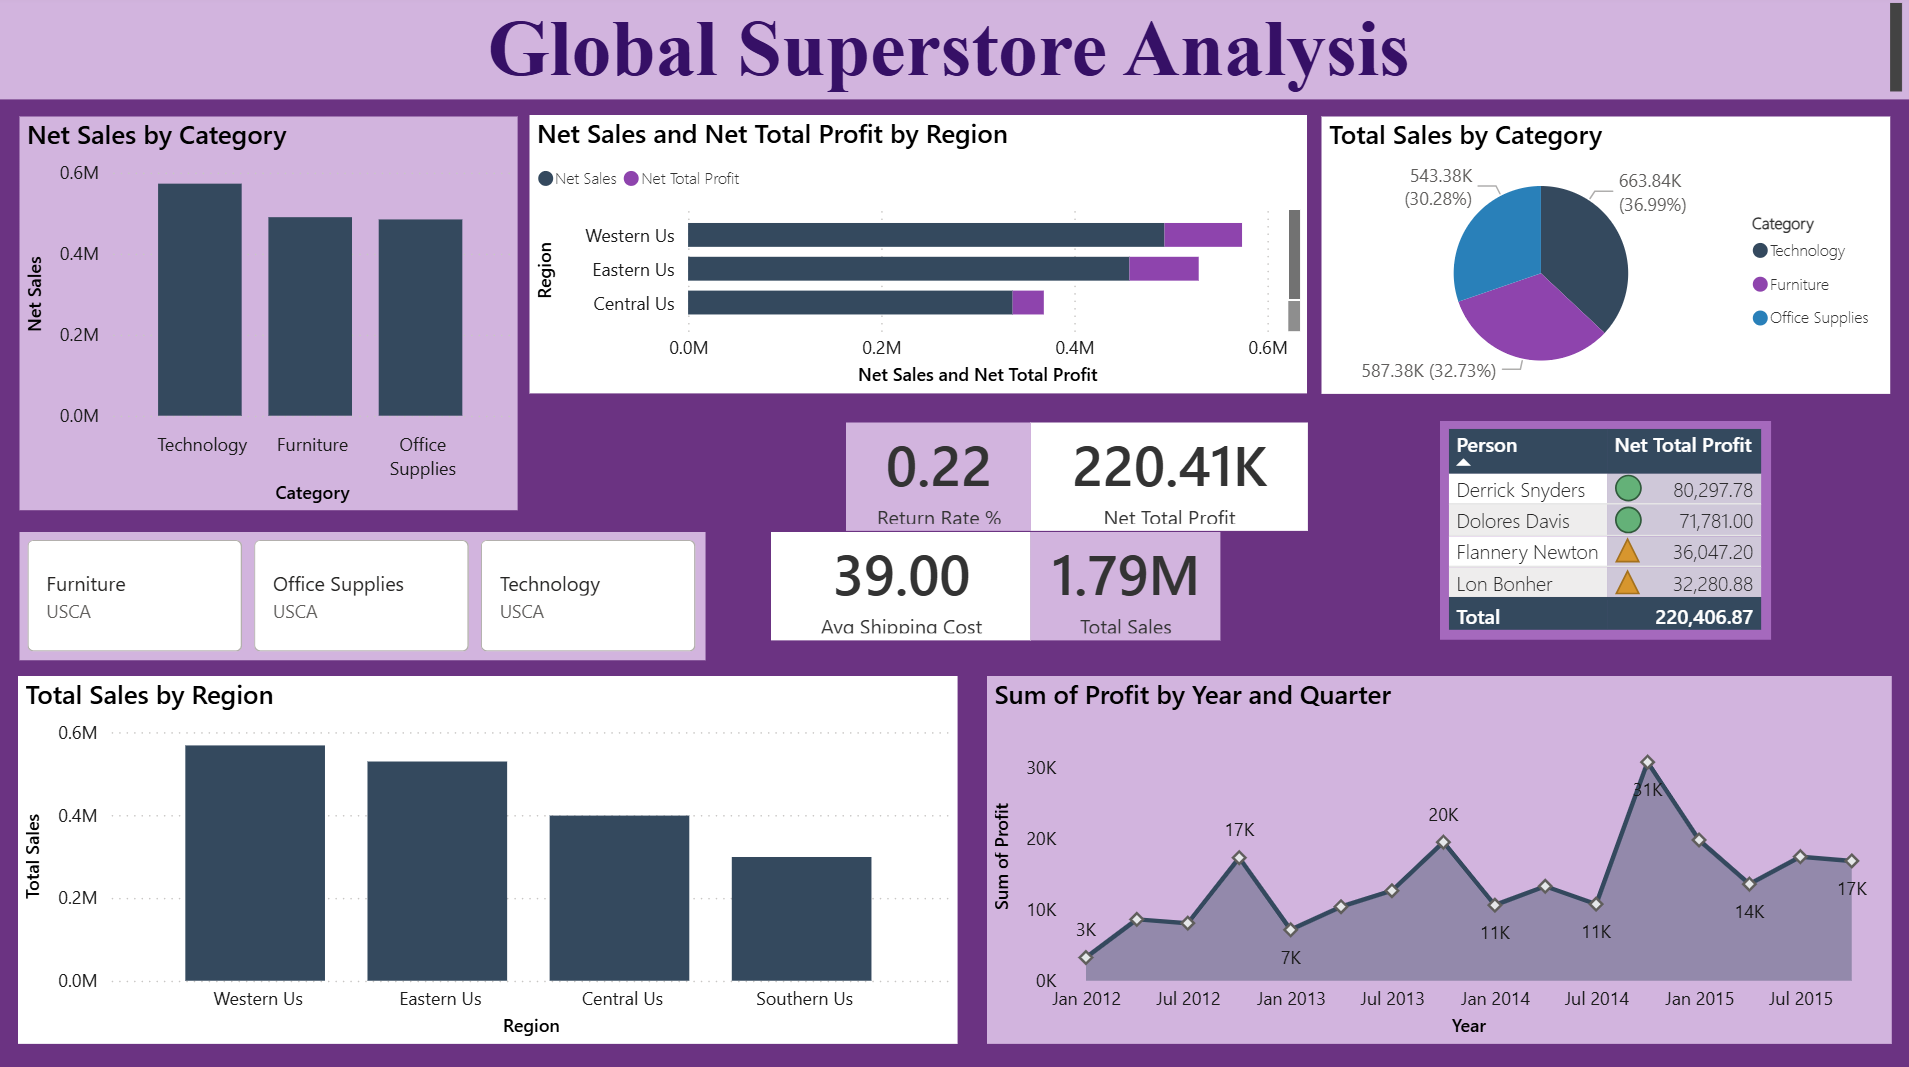

Layout of this report page (visuals, bound fields, positions):
{"tool":"powerbi","page":{"name":"Page 1","canvas":[1280,720],"ordinal":0},"visuals":[{"type":"tableEx","fields":{"Values":["People.Person","Orders.Net Total Profit"]},"box":[966,285.4,222.3,146.8],"z":0},{"type":"columnChart","fields":{"Category":["Orders.Category"],"Y":["Orders.Net Sales"]},"box":[12.9,81.4,334.3,264.3],"z":1000},{"type":"lineChart","fields":{"Y":["Sum(Orders.Profit)"],"Category":["Orders.Order Date.Variation.Date Hierarchy.Year","Orders.Order Date.Variation.Date Hierarchy.Quarter"]},"box":[661.4,456.9,606.5,247],"z":2000},{"type":"advancedSlicerVisual","fields":{"Values":["Orders.Category"],"Label":["Min(Orders.Market)"]},"box":[12.9,360,460,85.7],"z":3000},{"type":"textbox","box":[0,0,1280,70],"z":4000},{"type":"card","fields":{"Values":["Orders.Total Sales"]},"box":[691.4,360,127.1,72.9],"z":5000},{"type":"card","fields":{"Values":["Orders.Net Total Profit"]},"box":[691.4,287.1,185.7,72.9],"z":6000},{"type":"barChart","fields":{"Category":["People.Region"],"Y":["Orders.Net Sales","Orders.Net Total Profit"]},"box":[355.4,81,521.4,186.6],"z":7000},{"type":"pieChart","fields":{"Category":["Orders.Category"],"Y":["Orders.Total Sales"]},"box":[886.5,81.3,381.6,186.2],"z":8000},{"type":"columnChart","fields":{"Category":["Orders.Region"],"Y":["Orders.Total Sales"]},"box":[12.3,456.9,629.8,247],"z":9000},{"type":"card","fields":{"Values":["Orders.Avg Shipping Cost"]},"box":[517.1,360,174.3,72.9],"z":10000},{"type":"card","fields":{"Values":["Orders.Return Rate %"]},"box":[567.1,287.1,124.3,72.9],"z":11000}]}

Visuals, with their boxes in screenshot pixels (x1, y1, x2, y2), scaled from the page's 1280x720 canvas onto the 1909x1067 screenshot:
tableEx - People.Person x Orders.Net Total Profit: (1441,423,1772,640)
columnChart - Orders.Category x Orders.Net Sales: (19,121,518,512)
lineChart - Sum(Orders.Profit) x Orders.Order Date.Variation.Date Hierarchy.Year: (986,677,1891,1043)
advancedSlicerVisual - Orders.Category x Min(Orders.Market): (19,534,705,661)
textbox: (0,0,1908,104)
card - Orders.Total Sales: (1031,534,1221,642)
card - Orders.Net Total Profit: (1031,425,1308,534)
barChart - People.Region x Orders.Net Sales: (530,120,1308,397)
pieChart - Orders.Category x Orders.Total Sales: (1322,120,1891,396)
columnChart - Orders.Region x Orders.Total Sales: (18,677,958,1043)
card - Orders.Avg Shipping Cost: (771,534,1031,642)
card - Orders.Return Rate %: (846,425,1031,534)
